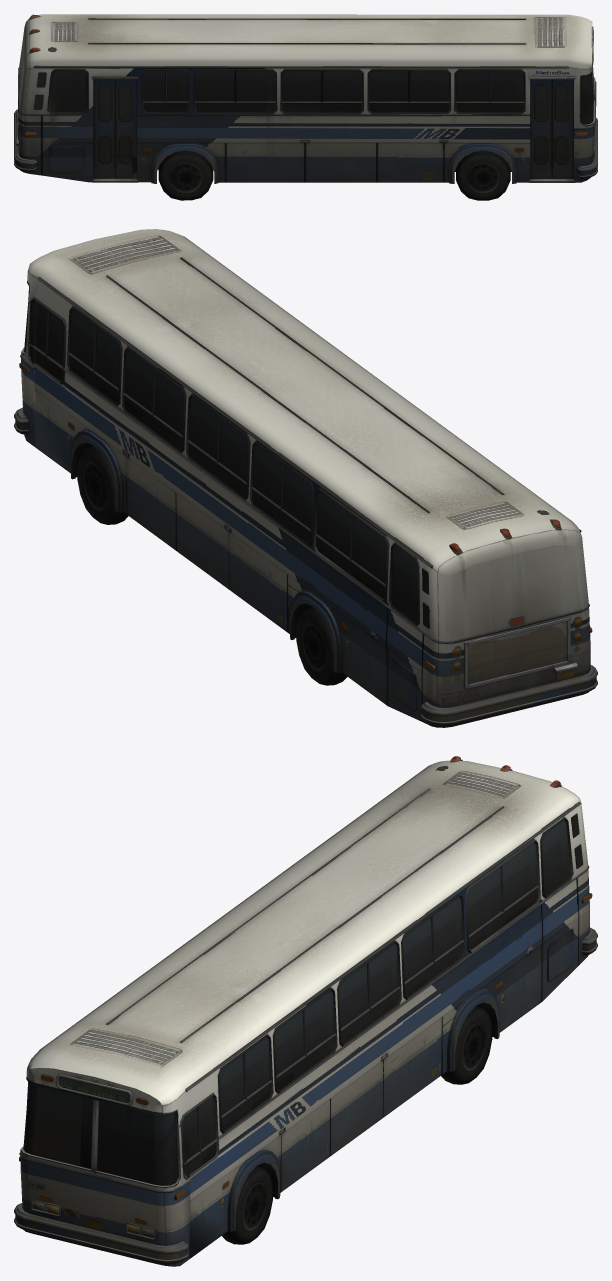
The model's file is Bus_R002.FBX.
3 views of the same model, one above another, from view 1: azimuth 30°, elevation 25°; view 2: azimuth 150°, elevation 25°; view 3: azimuth 270°, elevation 25° (orthographic). The views are drawn at different scales.
Visible parts, largest first — view 1: Bus_R002; view 2: Bus_R002; view 3: Bus_R002.
Part boxes in pixels (x1,y1,x2,y2): Bus_R002: (14, 14, 597, 200); Bus_R002: (14, 229, 597, 727); Bus_R002: (14, 756, 597, 1266).
Size of the model in its own units: 1611 by 462 by 1140.
